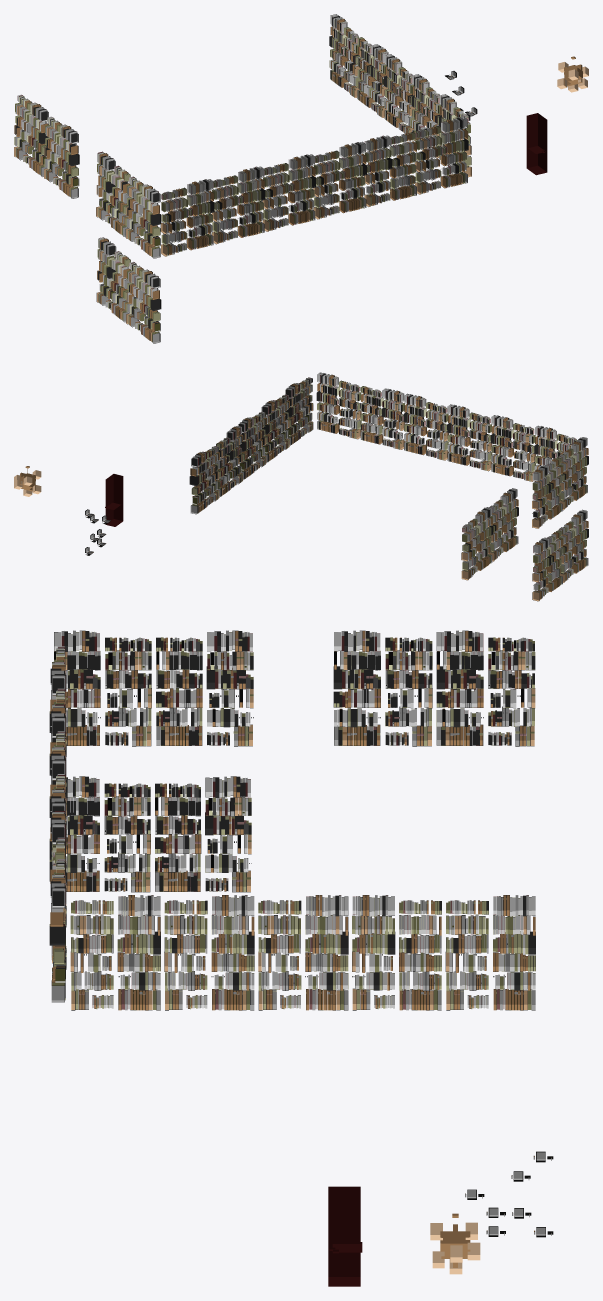
The model's file is ELJ_DECOR.glb.
3 views of the same model, one above another, from view 1: azimuth 30°, elevation 25°; view 2: azimuth 150°, elevation 25°; view 3: azimuth 270°, elevation 25° (orthographic). The views are drawn at different scales.
Visible parts, largest first — view 1: DEC_21 (×17); view 2: DEC_21 (×17); view 3: DEC_21 (×16).
Part boxes in pixels (bbox=[...]): DEC_21 (×17): bbox=[14, 14, 588, 343]; DEC_21 (×17): bbox=[14, 372, 588, 601]; DEC_21 (×16): bbox=[49, 630, 553, 1286].
Size of the model in its own units: 23.75 by 6.24 by 10.96.
